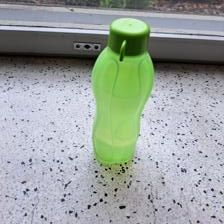bottle: (88, 15, 155, 165)
